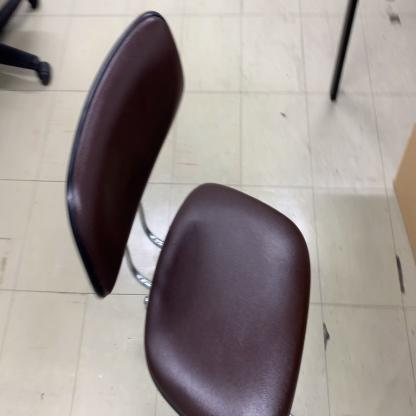chair: (62, 10, 312, 416)
